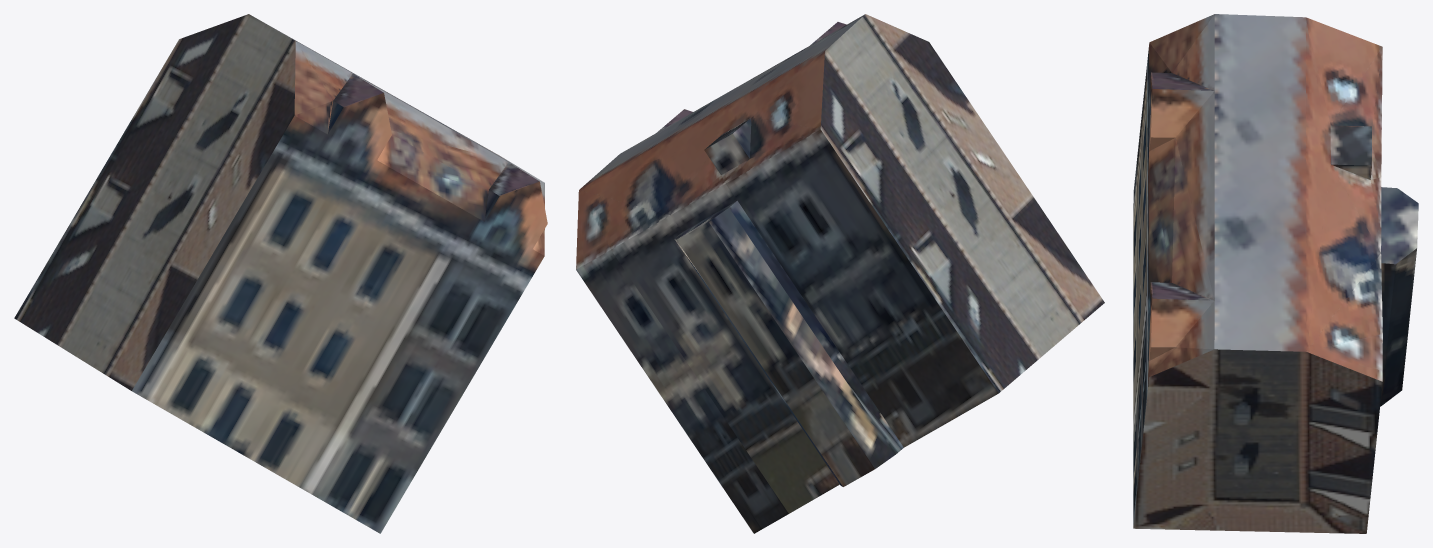
The picture shows the model from 3 angles, left to right: view 1: azimuth 30°, elevation 25°; view 2: azimuth 150°, elevation 25°; view 3: azimuth 270°, elevation 25°; orthographic projection. The views are drawn at different scales.
Visible parts, largest first — view 1: BAG_0599100000688742 (×4); view 2: BAG_0599100000688742 (×5); view 3: BAG_0599100000688742 (×6).
Part boxes in pixels (bbox=[...]): BAG_0599100000688742 (×4): bbox=[14, 14, 547, 533]; BAG_0599100000688742 (×5): bbox=[576, 14, 1104, 533]; BAG_0599100000688742 (×6): bbox=[1133, 14, 1418, 533].
Size of the model in its own units: 17.54 by 17.7 by 9.16.
Materials: 1 (1 with a texture image).
